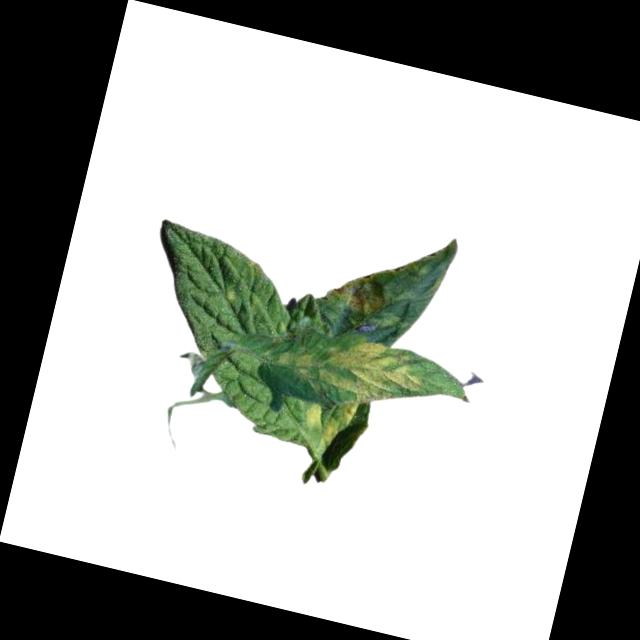Leaf_Mold: (271, 321, 428, 414), (321, 259, 400, 323), (302, 391, 359, 450)
